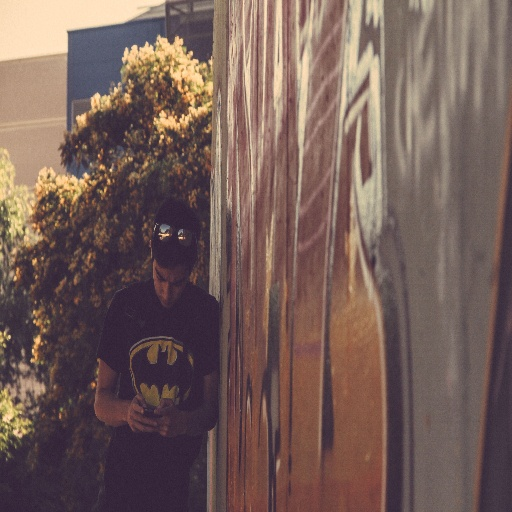hand: (151, 396, 184, 439), (126, 391, 157, 435)
